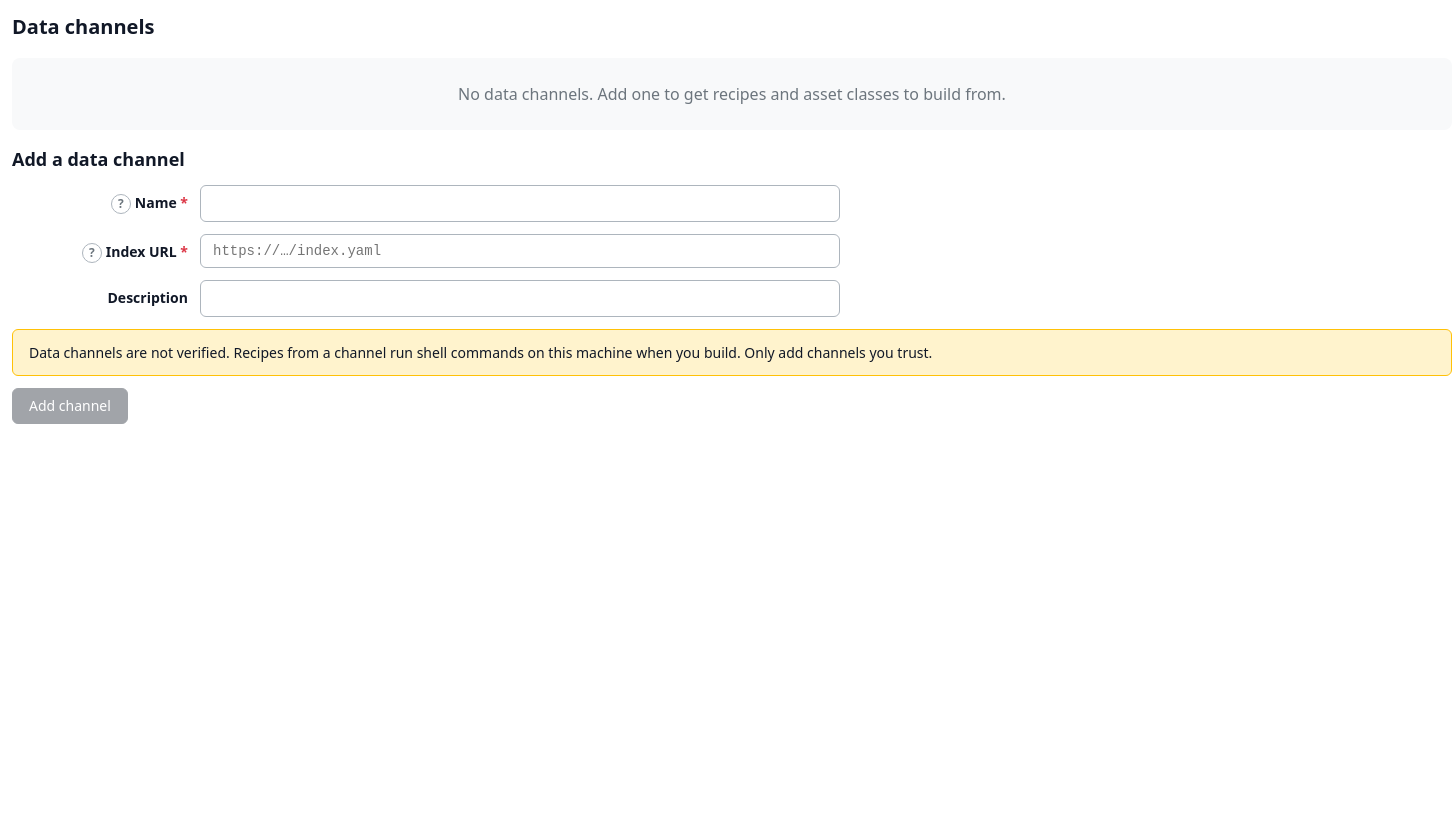
Test: DataChannelPanel › shows the warning and posts the new channel with the action header
Expected: the text "No data channels" is shown, x1=458 y1=83 x2=1006 y2=105
Expected: the text "Data channels are not verified. Recipes from a channel run shell commands on this machine when you build. Only add chann" is shown, x1=29 y1=343 x2=932 y2=362
Type "registry" into the field labelled "Name *" at (520, 204), box x1=200 y1=185 x2=840 y2=222
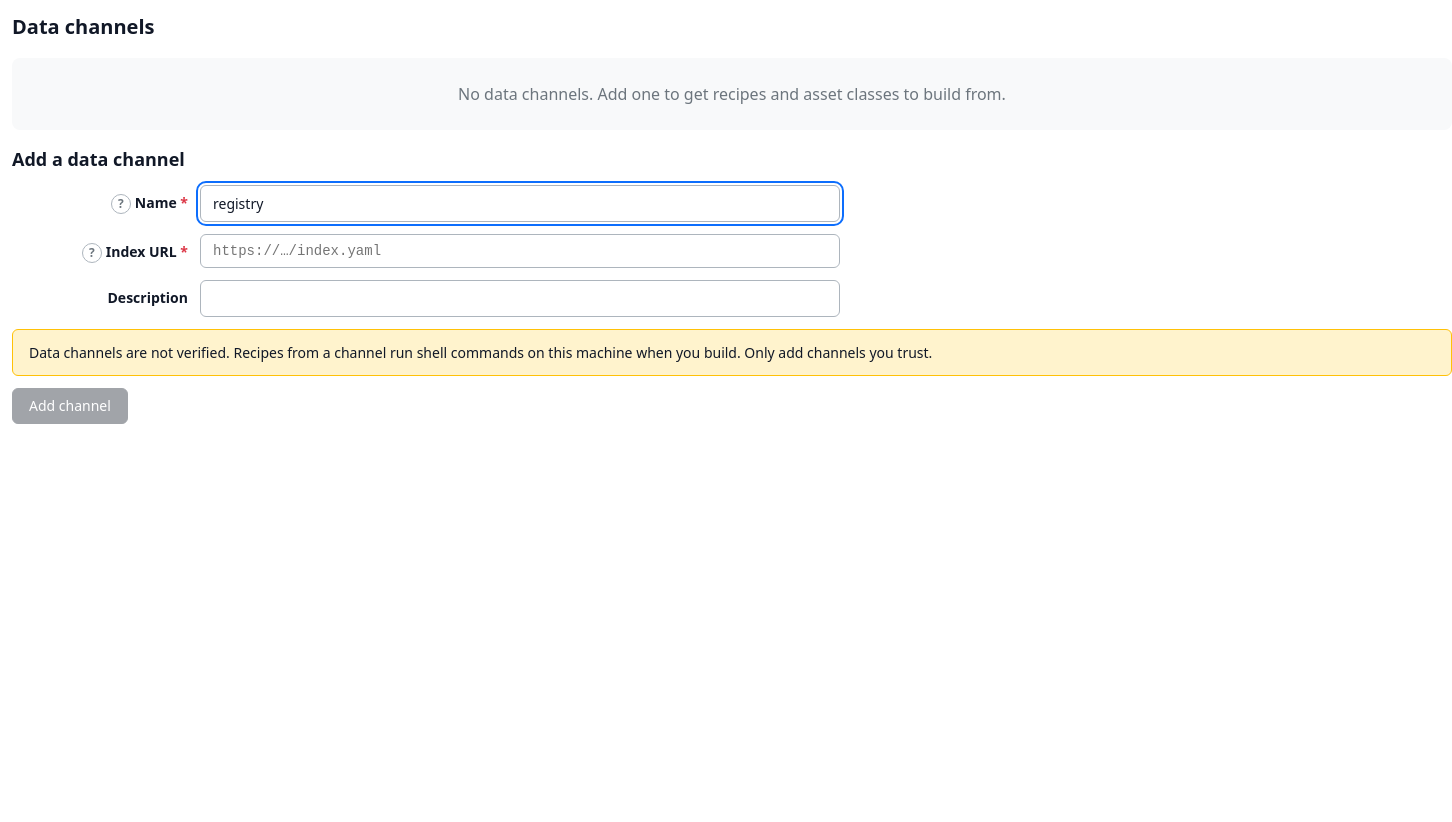
Type "https://example.org/index.yaml" into the field labelled "Index URL *" at (520, 251), box x1=200 y1=234 x2=840 y2=268
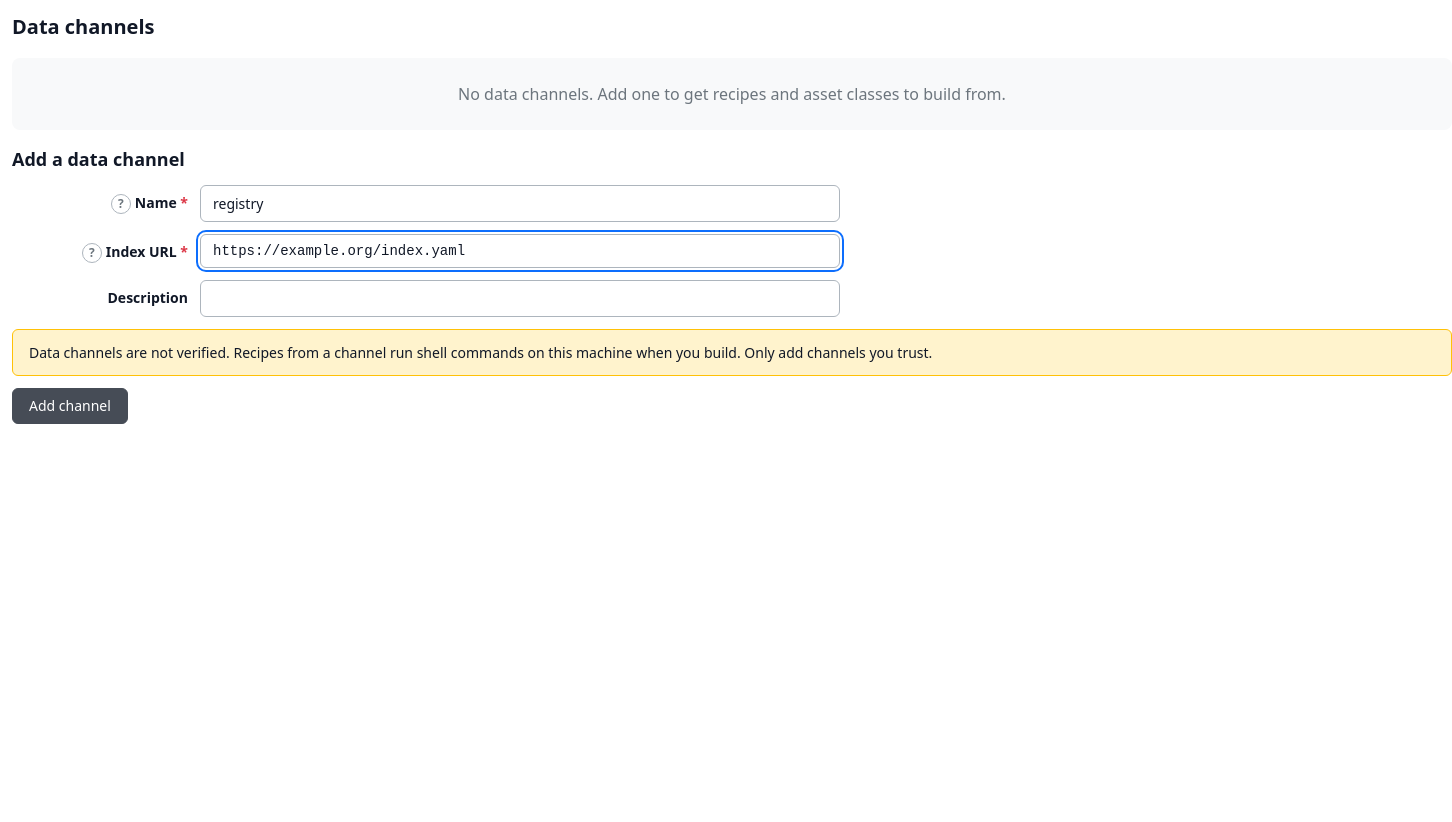
Click the button "Add channel" at (70, 406), box x1=12 y1=388 x2=128 y2=424
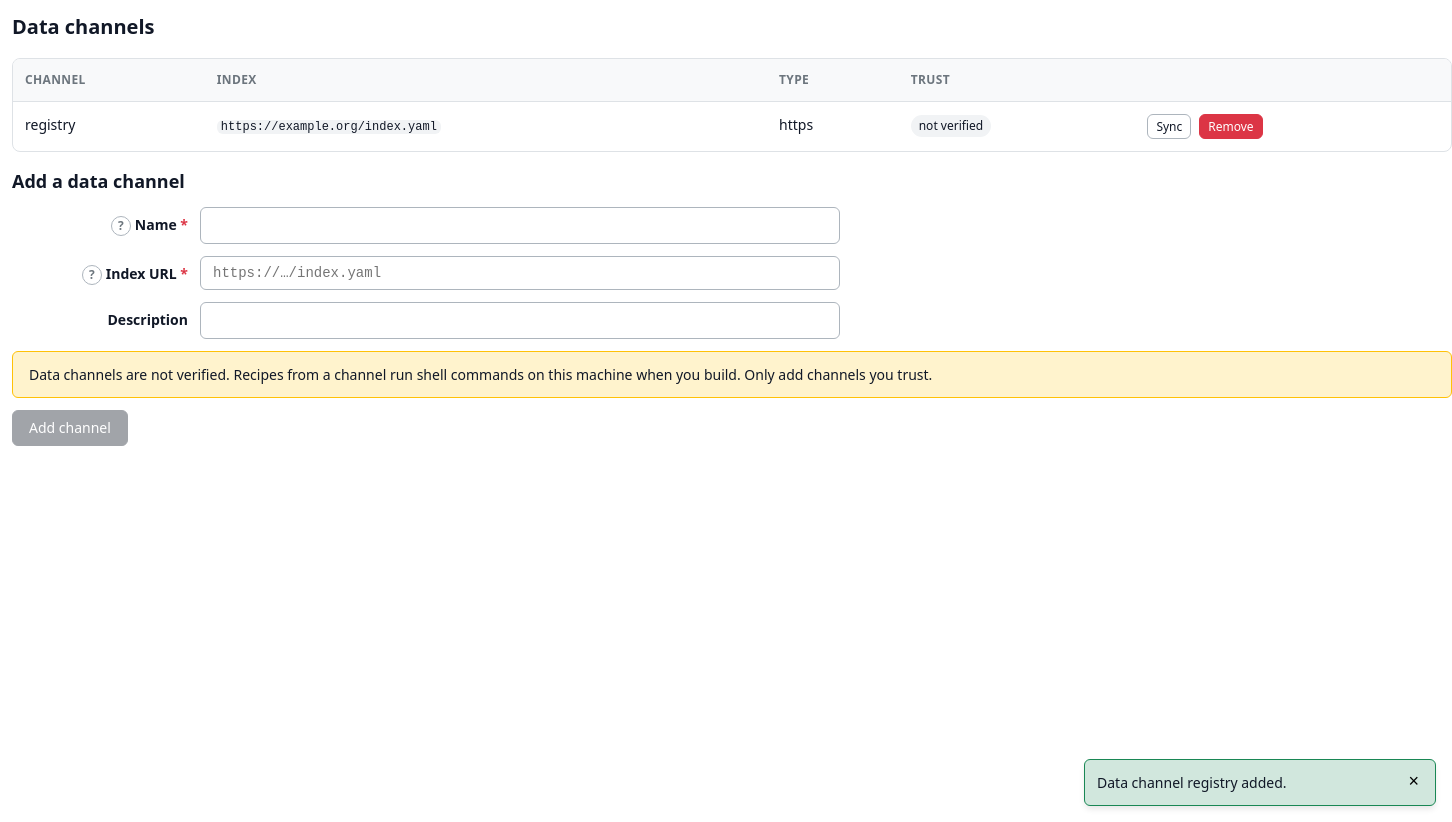
Expected: the cell "registry" is shown, x1=13 y1=102 x2=205 y2=151
Expected: the text "not verified" is shown, x1=911 y1=115 x2=991 y2=137
